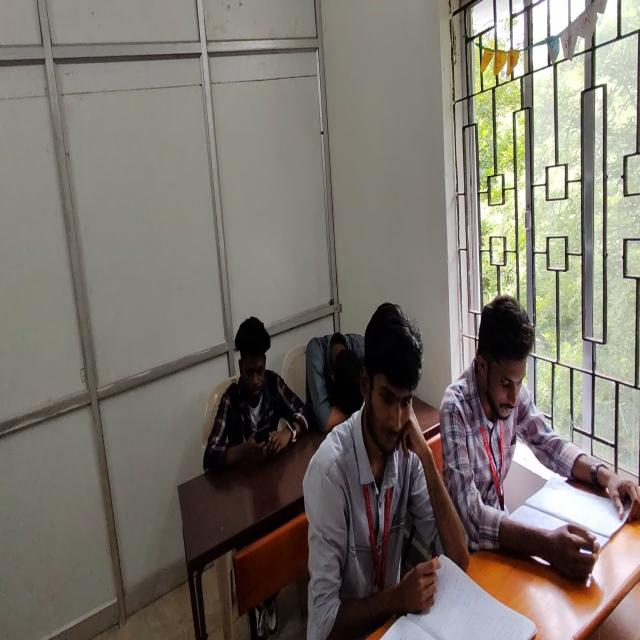reading: (442, 292, 640, 578), (302, 302, 456, 639)
sleeping: (309, 330, 367, 436)
using_mobile: (202, 312, 310, 472)
